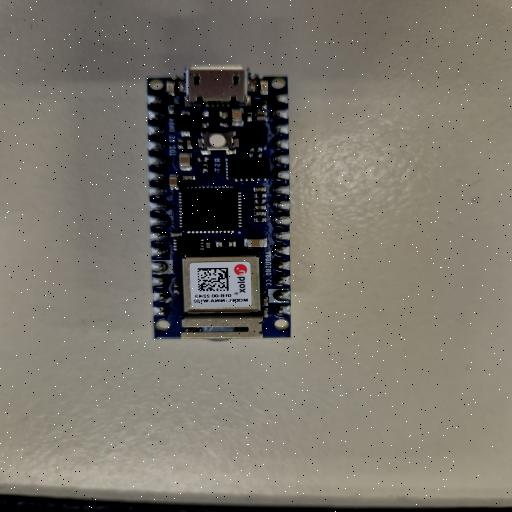arduino-nano-iot-33: (148, 68, 290, 341)
